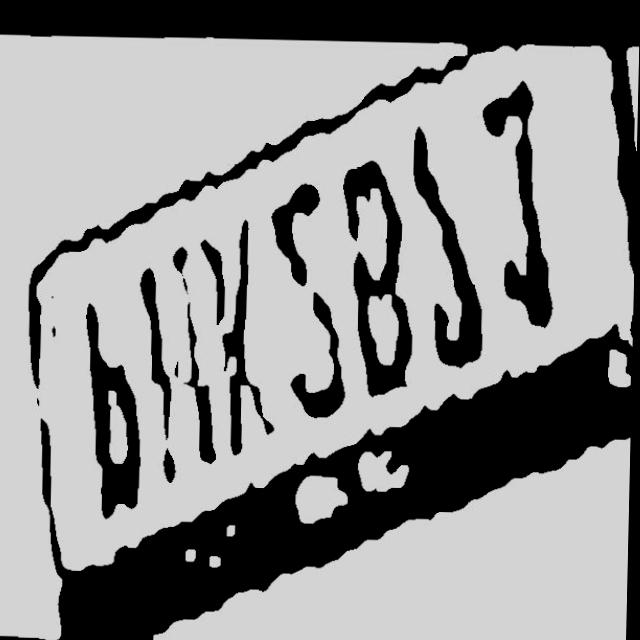1: (481, 71, 561, 330)
2: (267, 174, 350, 432)
7: (414, 118, 491, 377)
b: (344, 150, 416, 402)
h: (145, 241, 220, 492)
k: (207, 218, 275, 468)
p: (79, 280, 151, 527)
